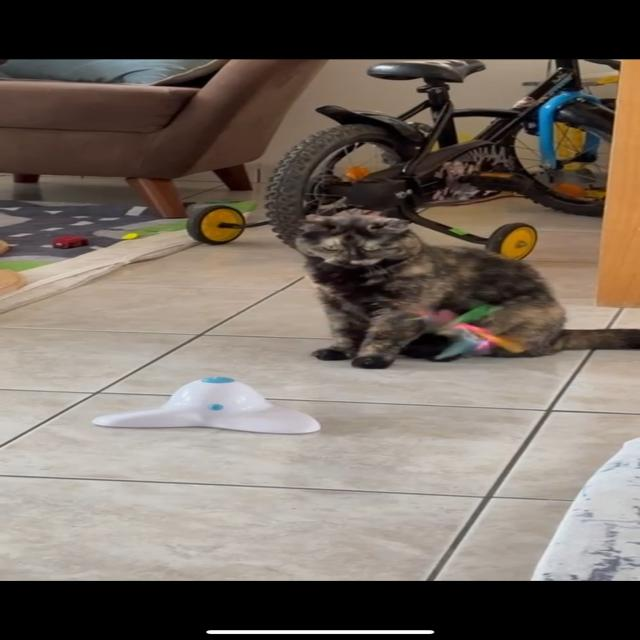authorized: (293, 211, 638, 369)
